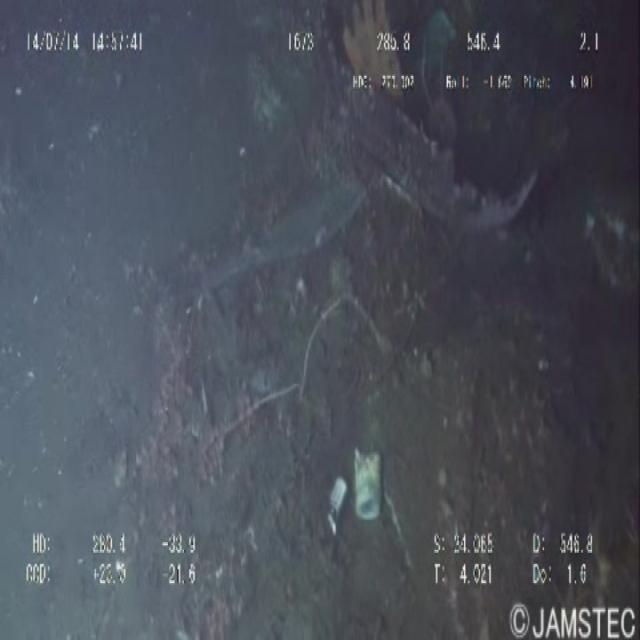Glass: (313, 471, 354, 558)
Litter: (300, 9, 565, 342)
Natual-Debris: (107, 265, 301, 494)
Plastic: (351, 446, 393, 548)
